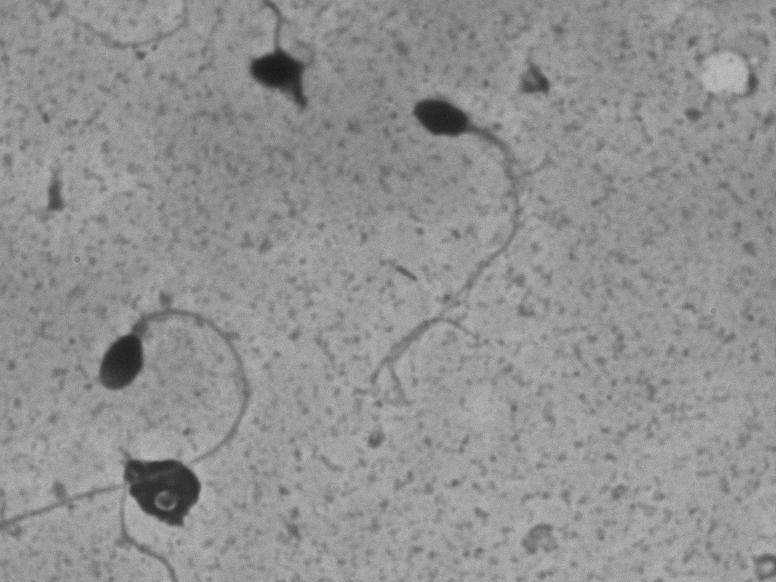Abnormal: (381, 85, 563, 299), (215, 9, 357, 138)
Normal: (0, 292, 271, 537)
